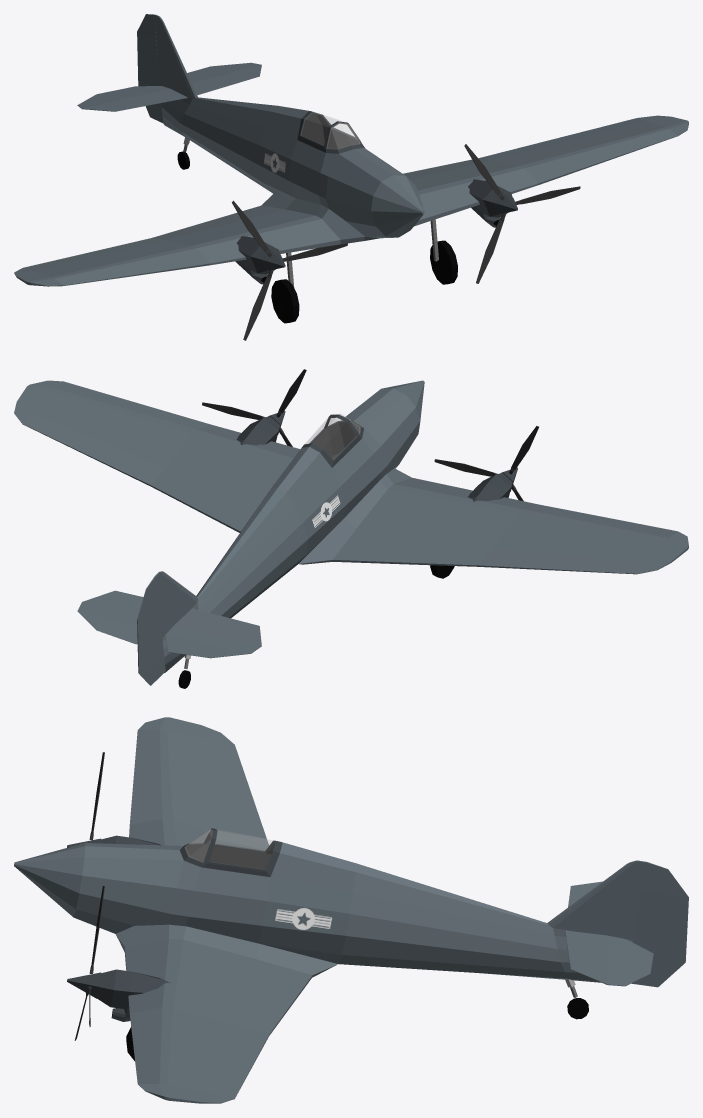
3 views of the same model, one above another, from view 1: azimuth 30°, elevation 25°; view 2: azimuth 150°, elevation 25°; view 3: azimuth 270°, elevation 25° (orthographic). The views are drawn at different scales.
Parts seen in each view (by area): view 1: Body.003, propeller.006, propeller.007, Rudder.003, Landing gear_FR.003, Landing gear_FL.003, L_ailerone.003, Circle.009, R_ailerone.003; view 2: Body.003, L_ailerone.003, R_ailerone.003, Rudder.003, Circle.009, R_elevator.003, propeller.006, propeller.007, L_elevator.003; view 3: Body.003, Rudder.003, R_ailerone.003, Circle.009, L_ailerone.003, propeller.006, L_elevator.003.
Boxes of the visible parts, x1,y1,x2,y2 form: Body.003: (14, 14, 688, 286); propeller.006: (464, 144, 580, 283); propeller.007: (232, 200, 347, 340); Rudder.003: (137, 14, 162, 122); Landing gear_FR.003: (271, 252, 299, 323); Landing gear_FL.003: (430, 219, 457, 284); L_ailerone.003: (479, 118, 645, 160); Circle.009: (299, 111, 357, 148); R_ailerone.003: (23, 238, 164, 270); Body.003: (14, 380, 688, 672); L_ailerone.003: (22, 413, 164, 486); R_ailerone.003: (479, 547, 646, 574); Rudder.003: (137, 576, 165, 685); Circle.009: (303, 415, 358, 462); R_elevator.003: (165, 634, 251, 658); propeller.006: (202, 369, 306, 446); propeller.007: (434, 426, 538, 501); L_elevator.003: (77, 611, 137, 644); Body.003: (14, 717, 646, 1103); Rudder.003: (631, 862, 688, 987); R_ailerone.003: (212, 740, 268, 845); Circle.009: (206, 828, 277, 871); L_ailerone.003: (212, 1025, 269, 1098); propeller.006: (67, 886, 104, 1040); L_elevator.003: (625, 939, 653, 986).
Size of the model in its own units: 1627 by 379 by 1219.
